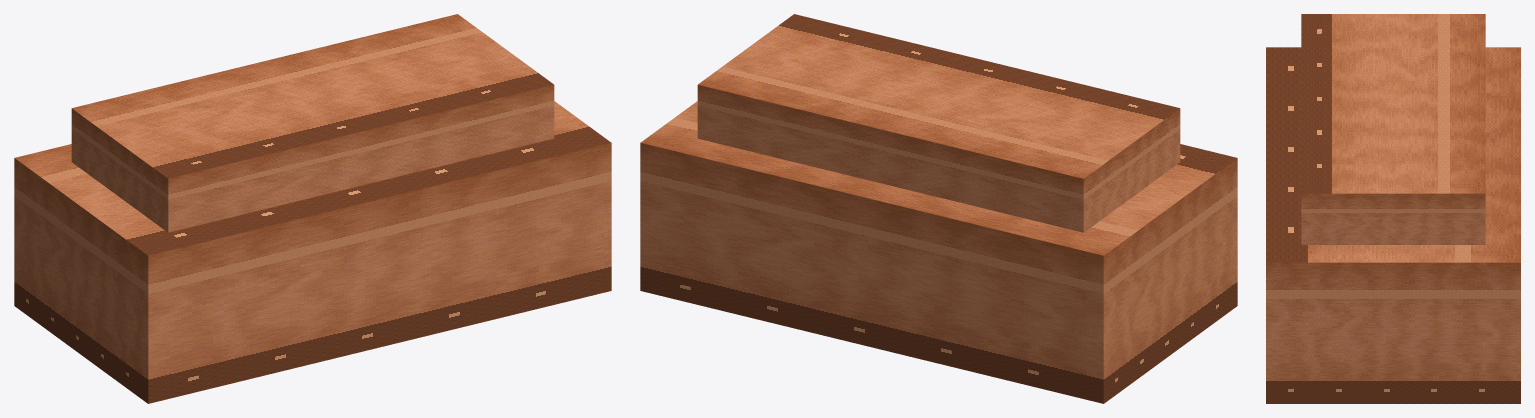
File: lingote_de_cobre.glb
3 renders of one model, left to right at view 1: azimuth 30°, elevation 25°; view 2: azimuth 150°, elevation 25°; view 3: azimuth 270°, elevation 25°, orthographic. The views are drawn at different scales.
Parts seen in each view (by area): view 1: lingote_de_cobre; view 2: lingote_de_cobre; view 3: lingote_de_cobre.
Part boxes in pixels (left/top/right/bottom): lingote_de_cobre: left=14, top=14, right=611, bottom=403; lingote_de_cobre: left=640, top=14, right=1237, bottom=403; lingote_de_cobre: left=1266, top=14, right=1520, bottom=403.
Size of the model in its own units: 0.36 by 0.15 by 0.18.
1 material, 1 textured.
